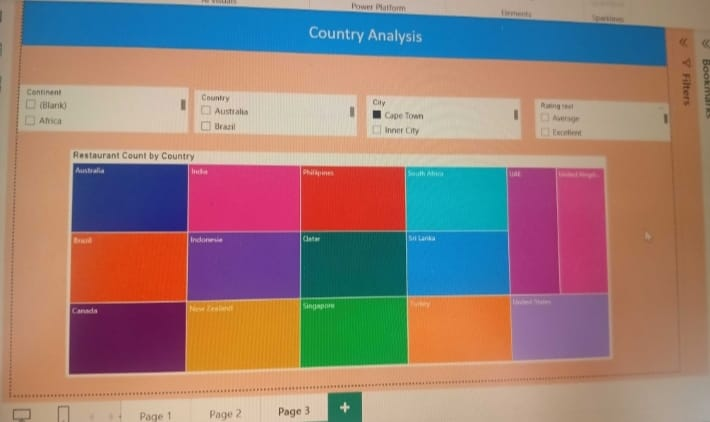

Layout of this report page (visuals, bound fields, positions):
{"tool":"powerbi","page":{"name":"Page 3","canvas":[1280,720],"ordinal":2},"visuals":[{"type":"treemap","fields":{"Group":["Country Master.Country"],"Values":["KPIs.Restaurant Count"]},"box":[93.9,280.1,1037.9,409.7],"z":0},{"type":"slicer","fields":{"Values":["Country Master.Continent"]},"box":[0,160.3,302.8,85.8],"z":1000},{"type":"slicer","fields":{"Values":["Country Master.Country"]},"box":[314.1,165.2,306,81],"z":2000},{"type":"slicer","fields":{"Values":["KPIs.Rating text"]},"box":[982.9,165.2,297.9,81],"z":3000},{"type":"slicer","fields":{"Values":["Zomato Africa.City"]},"box":[639.6,165.2,312.5,82.6],"z":4000},{"type":"shape","box":[0,0,1280.8,85.8],"z":5000}]}

Visuals, with their boxes on the page's 1280x720 design canvas (x1, y1, x2, y2). These are canvas units, not pixel positions in the 710x422 screenshot, which may show the page scaled, cropped or inside an application window:
treemap - Country Master.Country x KPIs.Restaurant Count: bbox=(94, 280, 1132, 690)
slicer - Country Master.Continent: bbox=(0, 160, 303, 246)
slicer - Country Master.Country: bbox=(314, 165, 620, 246)
slicer - KPIs.Rating text: bbox=(983, 165, 1281, 246)
slicer - Zomato Africa.City: bbox=(640, 165, 952, 248)
shape: bbox=(0, 0, 1281, 86)
